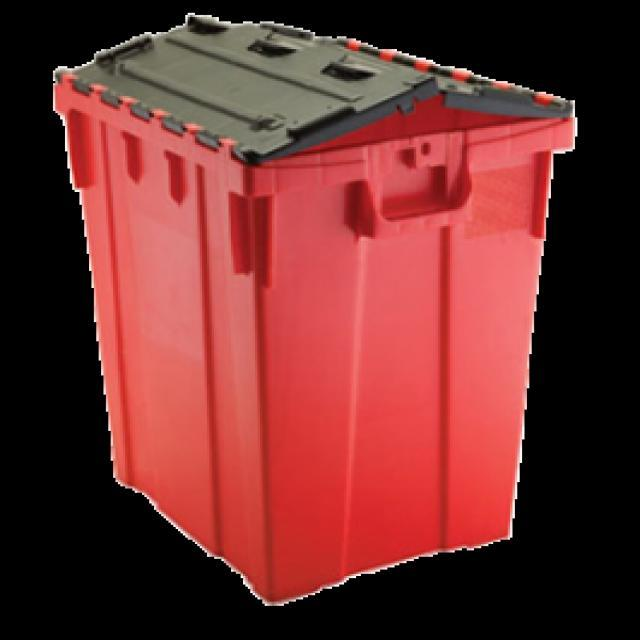bin: (24, 7, 608, 598)
